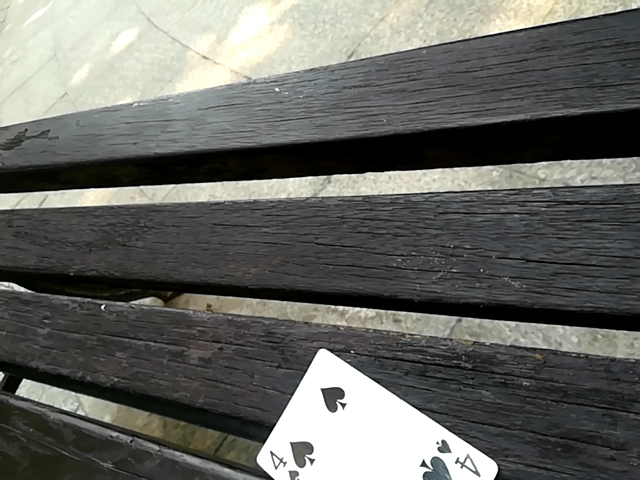ht 4: (212, 345, 498, 480)
